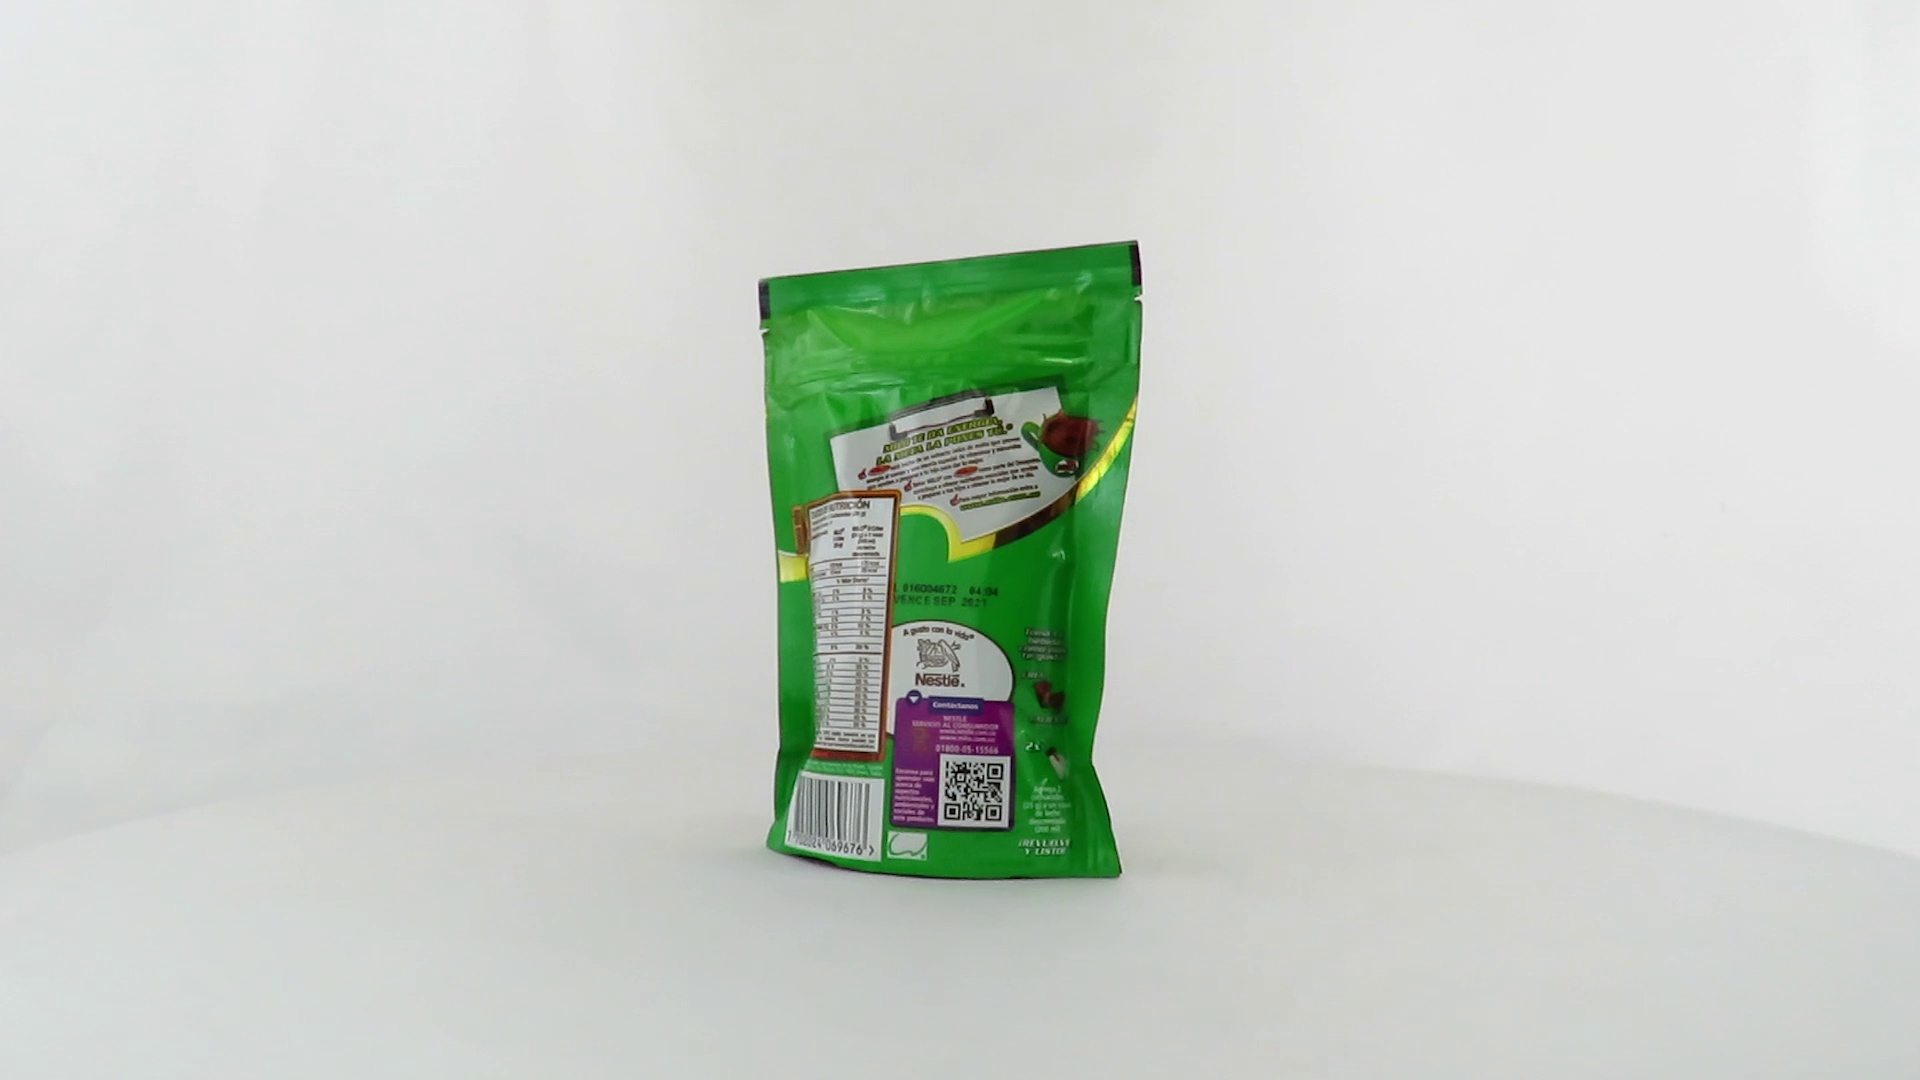COL0170203DYP10000: (753, 235, 1149, 887)
